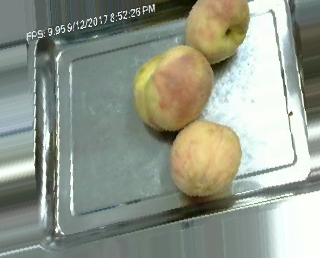Peach: (132, 44, 212, 131), (169, 119, 241, 199), (185, 0, 250, 63)
